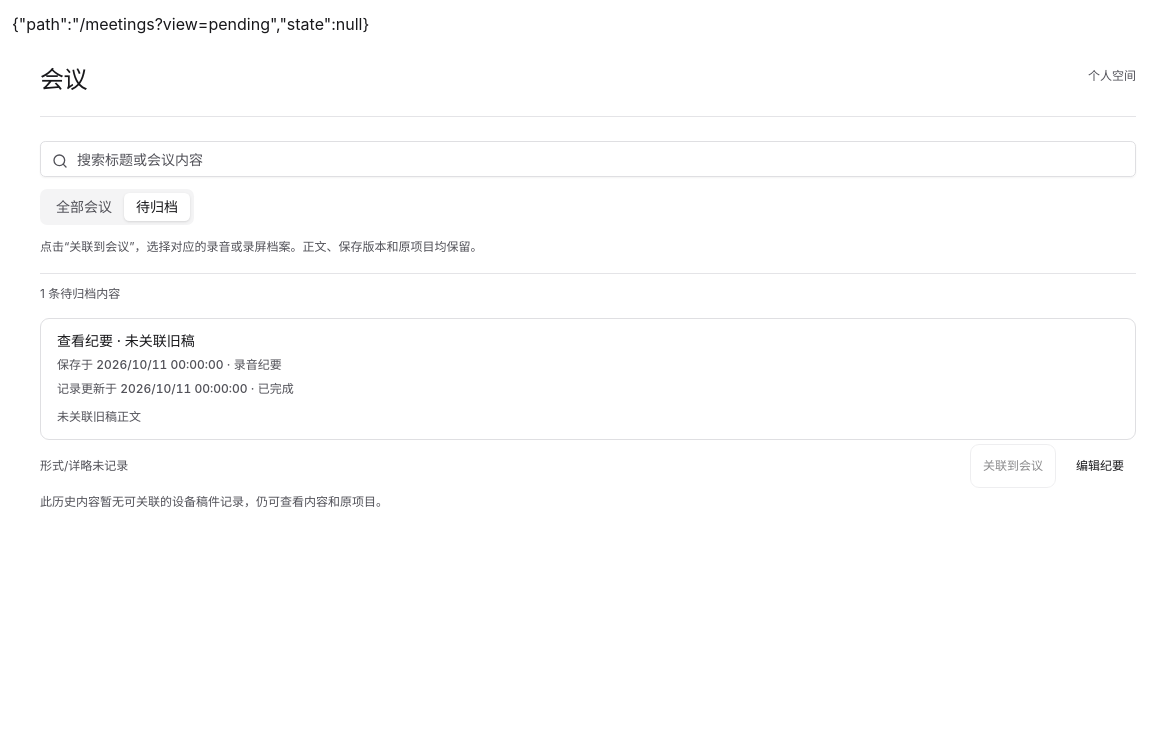
it: clears search within pending association without changing the dossier view or old archive metadata
The width and height of the screenshot is (1164, 732).
In the field named "搜索记录": point(588, 159) [40,141,1136,177], type "missing"
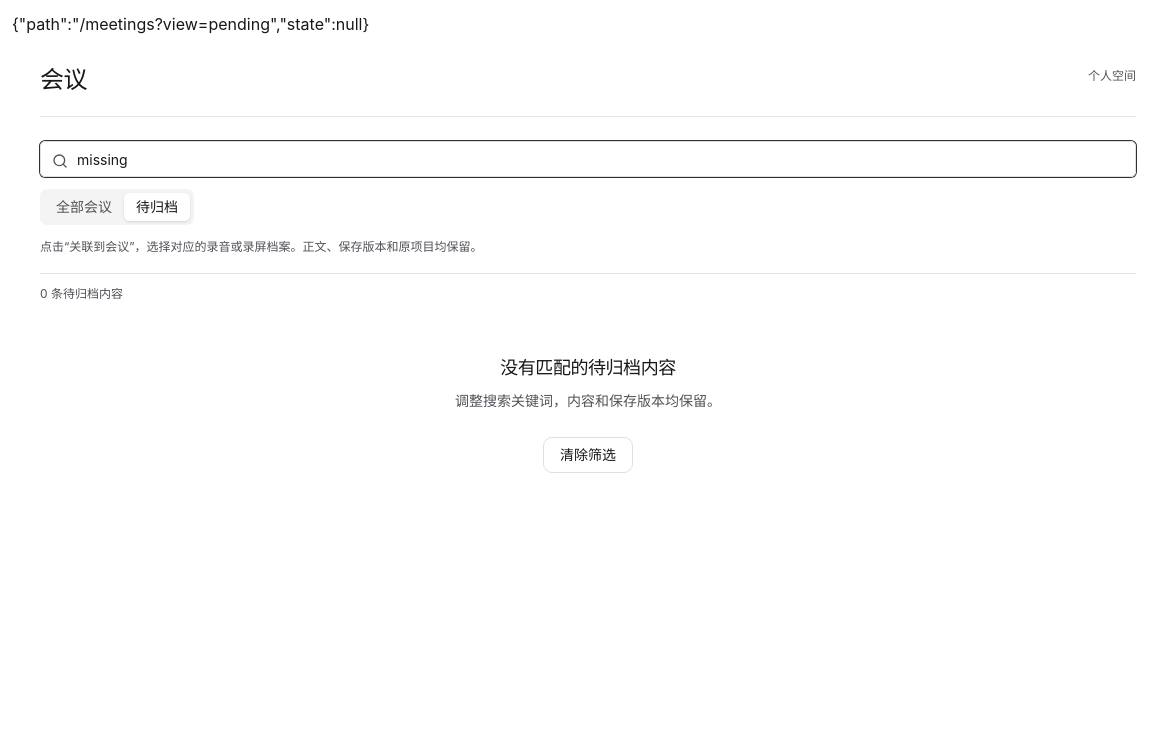
Expected: the text "没有匹配的待归档内容" is shown, [500,354,676,382]
Click the button "清除筛选": point(588, 455) [543,437,633,473]
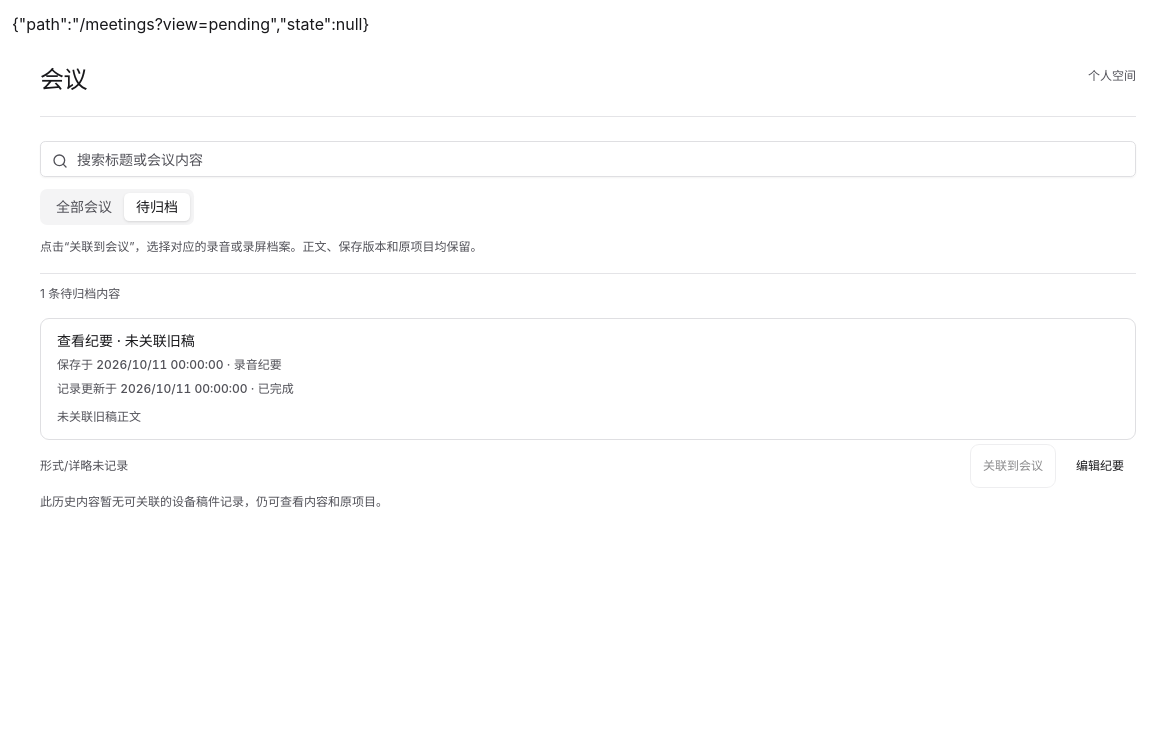
Expected: the button "查看纪要 · 未关联旧稿" is shown, [40,318,1136,440]
